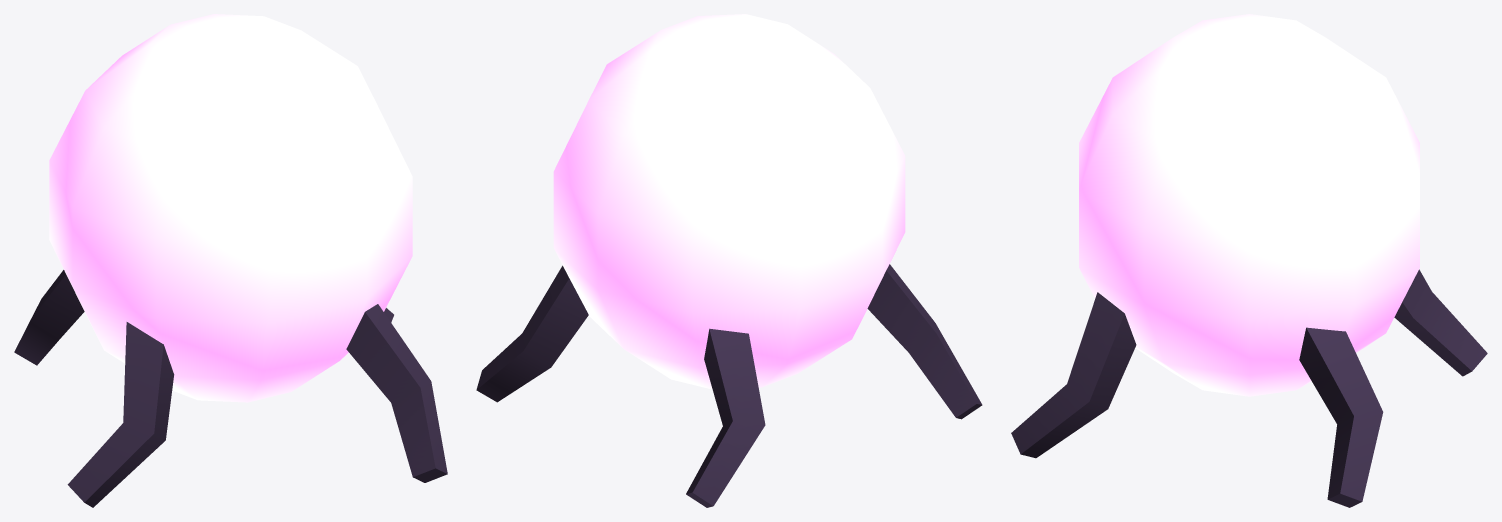
File: beacon_hive.glb
3 renders of one model, left to right at view 1: azimuth 30°, elevation 25°; view 2: azimuth 150°, elevation 25°; view 3: azimuth 270°, elevation 25°, orthographic. The views are drawn at different scales.
Parts seen in each view (by area): view 1: beacon_hive; view 2: beacon_hive; view 3: beacon_hive.
Boxes of the visible parts, x1,y1,x2,y2 form: beacon_hive: (14, 14, 447, 507); beacon_hive: (476, 14, 982, 507); beacon_hive: (1011, 14, 1487, 507).
Bounding box in the file's own units: 0.775 × 0.6968 × 0.7778.
